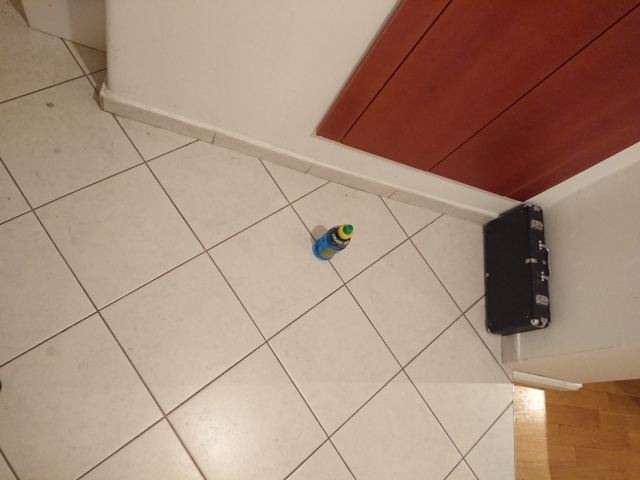Vindi Iso Sport Forest Strawberries 500mL: (312, 223, 355, 261)
